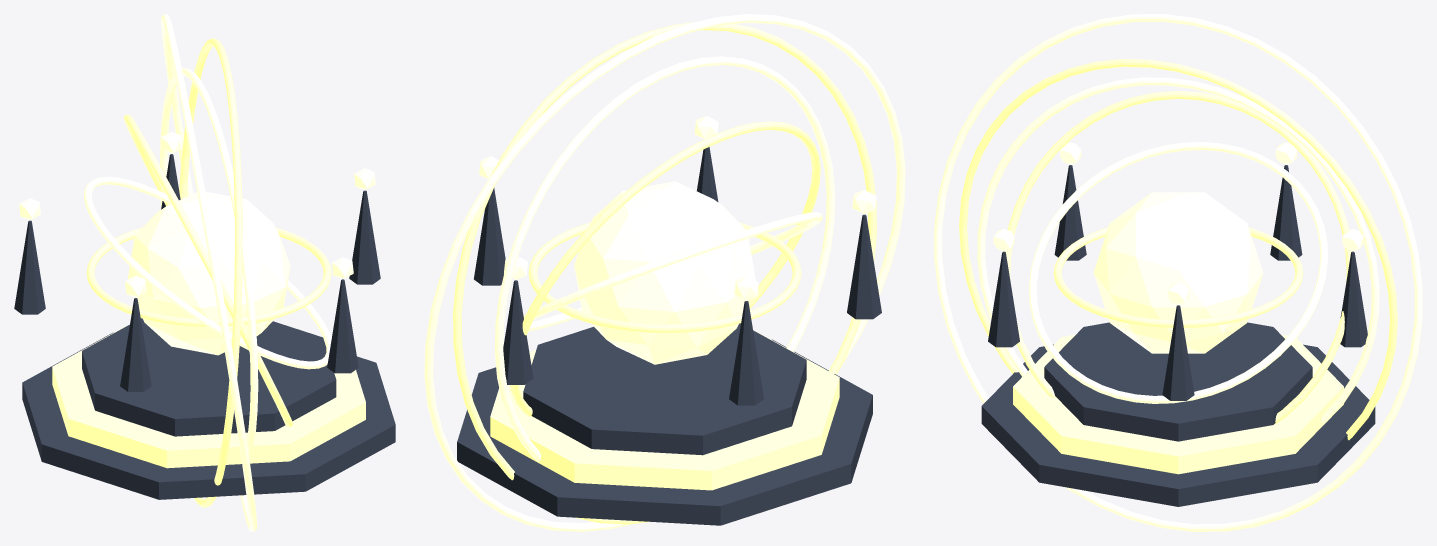
File: gpu-blender-v2.glb
The picture shows the model from 3 angles, left to right: view 1: azimuth 30°, elevation 25°; view 2: azimuth 150°, elevation 25°; view 3: azimuth 270°, elevation 25°; orthographic projection. The views are drawn at different scales.
Visible parts, largest first — view 1: Cylinder.002, Cylinder, SovereignCore_shodan-surface-sentinel, Cylinder.001, Torus.005, Torus.004, Torus.001, Torus.003, Torus, Torus.002, Cone.004, Cone.002 (+2 smaller); view 2: Cylinder.002, SovereignCore_shodan-surface-sentinel, Cylinder, Cylinder.001, Torus.005, Torus.003, Torus.004, Torus.002, Torus, Torus.001, Cone.003, Cone.002 (+3 smaller); view 3: SovereignCore_shodan-surface-sentinel, Cylinder.002, Cylinder, Cylinder.001, Torus.005, Torus.004, Torus.001, Torus.003, Torus.002, Torus, Cone.004, Cone (+3 smaller).
Boxes of the visible parts, <box> form: Cylinder.002: <box>82,318,336,436</box>; Cylinder: <box>22,332,395,499</box>; SovereignCore_shodan-surface-sentinel: <box>127,191,290,355</box>; Cylinder.001: <box>52,325,365,468</box>; Torus.005: <box>161,14,257,531</box>; Torus.004: <box>179,38,242,507</box>; Torus.001: <box>84,176,331,369</box>; Torus.003: <box>160,68,258,459</box>; Torus: <box>86,227,331,326</box>; Torus.002: <box>124,114,293,426</box>; Cone.004: <box>327,279,358,373</box>; Cone.002: <box>14,220,45,314</box>; Cylinder.002: <box>523,323,806,455</box>; SovereignCore_shodan-surface-sentinel: <box>574,181,755,364</box>; Cylinder: <box>457,339,872,525</box>; Cylinder.001: <box>490,330,839,490</box>; Torus.005: <box>424,14,905,531</box>; Torus.003: <box>494,56,835,461</box>; Torus.004: <box>453,22,876,524</box>; Torus.002: <box>510,121,820,416</box>; Torus: <box>528,222,801,333</box>; Torus.001: <box>523,212,822,331</box>; Cone.003: <box>847,214,881,319</box>; Cone.002: <box>729,301,763,405</box>; SovereignCore_shodan-surface-sentinel: <box>1093,192,1263,353</box>; Cylinder.002: <box>1044,322,1312,441</box>; Cylinder: <box>981,344,1375,506</box>; Cylinder.001: <box>1013,334,1343,474</box>; Torus.005: <box>934,14,1422,531</box>; Torus.004: <box>959,59,1397,440</box>; Torus.001: <box>1029,142,1327,403</box>; Torus.003: <box>977,77,1379,424</box>; Torus.002: <box>1004,91,1352,423</box>; Torus: <box>1053,227,1303,327</box>; Cone.004: <box>988,251,1019,347</box>; Cone: <box>1162,305,1194,400</box>.
Size of the model in its own units: 4.41 by 5.93 by 5.46.
